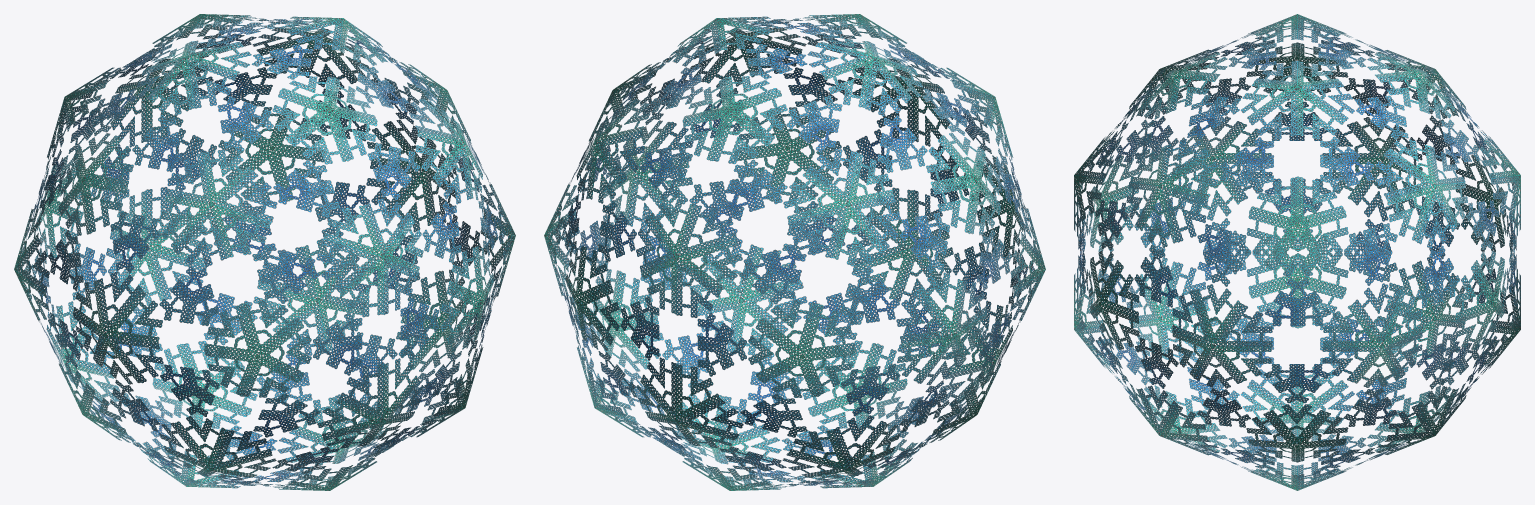
Rendered from 17PentakisDodecahedron.gltf.
3 renders of one model, left to right at view 1: azimuth 30°, elevation 25°; view 2: azimuth 150°, elevation 25°; view 3: azimuth 270°, elevation 25°, orthographic. The views are drawn at different scales.
Parts seen in each view (by area): view 1: 20PentakisDodecahedron; view 2: 20PentakisDodecahedron; view 3: 20PentakisDodecahedron.
Part boxes in pixels (<box>): 20PentakisDodecahedron: <box>14,14,515,490</box>; 20PentakisDodecahedron: <box>544,14,1045,490</box>; 20PentakisDodecahedron: <box>1074,14,1520,490</box>.
Size of the model in its own units: 4.85 by 4.85 by 4.85.
Materials: 1 (1 with a texture image).
